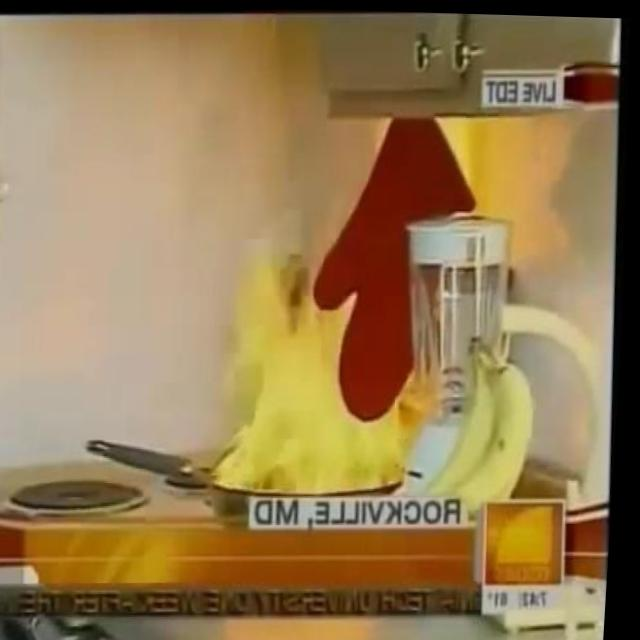fire: (205, 229, 432, 505)
